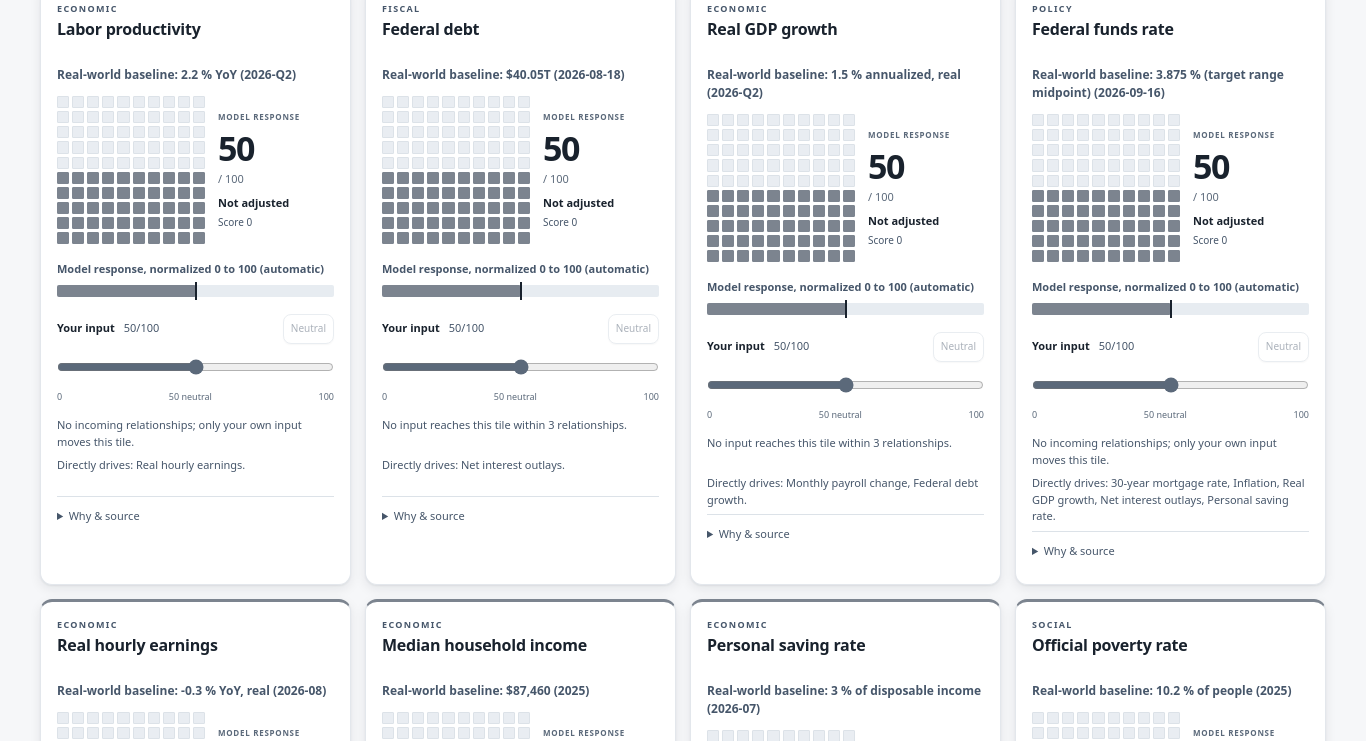
Test: active Block Board › shows an exactly cancelling scenario as balanced rather than a phantom increase
The width and height of the screenshot is (1366, 741).
(page scrolled)
Set the 4th slider labelled "Your input" to "70" at (1223, 385), box [1032, 363, 1309, 407]
(page scrolled)
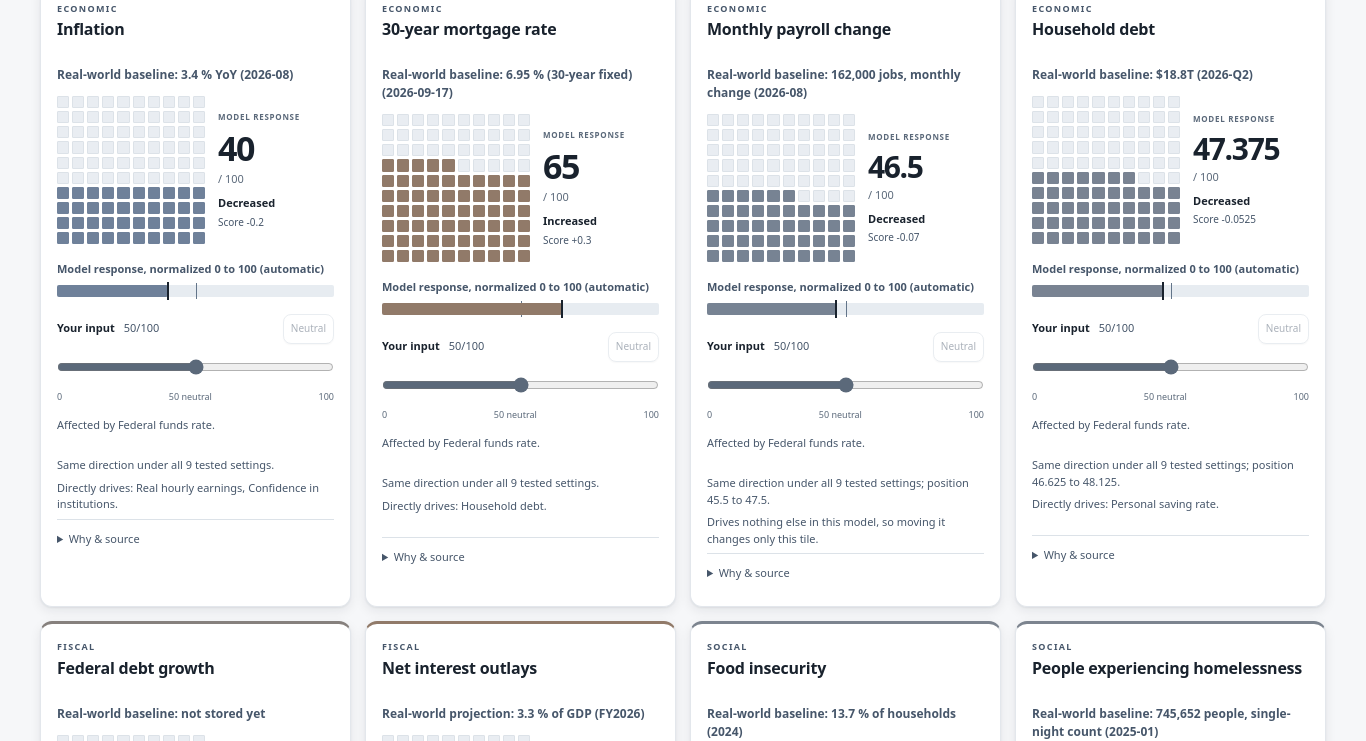
Set the 3rd slider labelled "Your input" to "35" at (481, 385), box [382, 363, 659, 407]
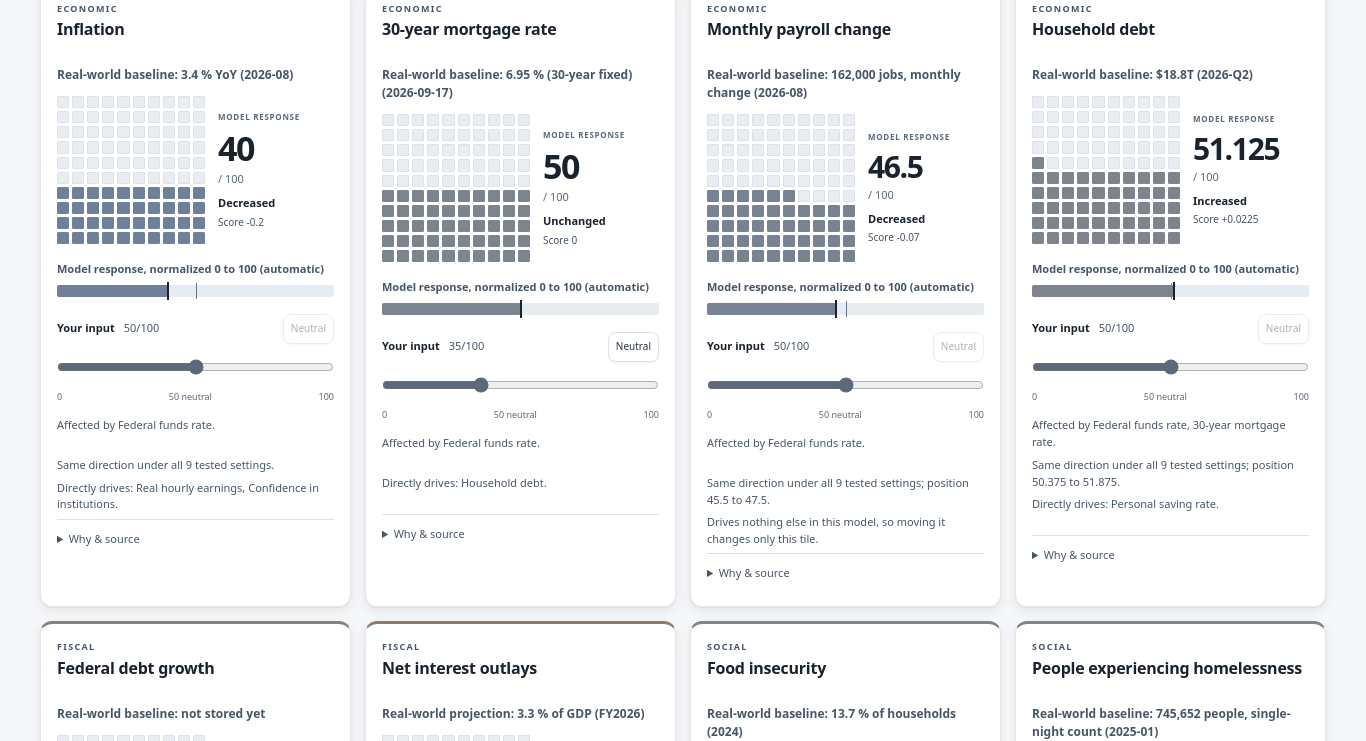
Now the text with class "bb-state" reads "Unchanged", box [543, 213, 606, 228]
Now the text with class "bb-change" reads "Score 0", box [543, 233, 577, 247]
